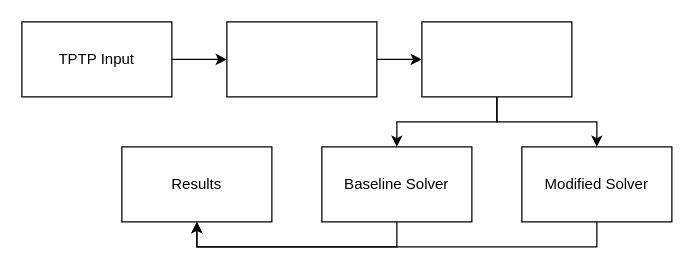
This 694x279 diagram has some shape labels left out. Each missing label, with the centre of its shape:
"CNF + Unification" belongs at [496,59].
"Parser" belongs at [301,59].
